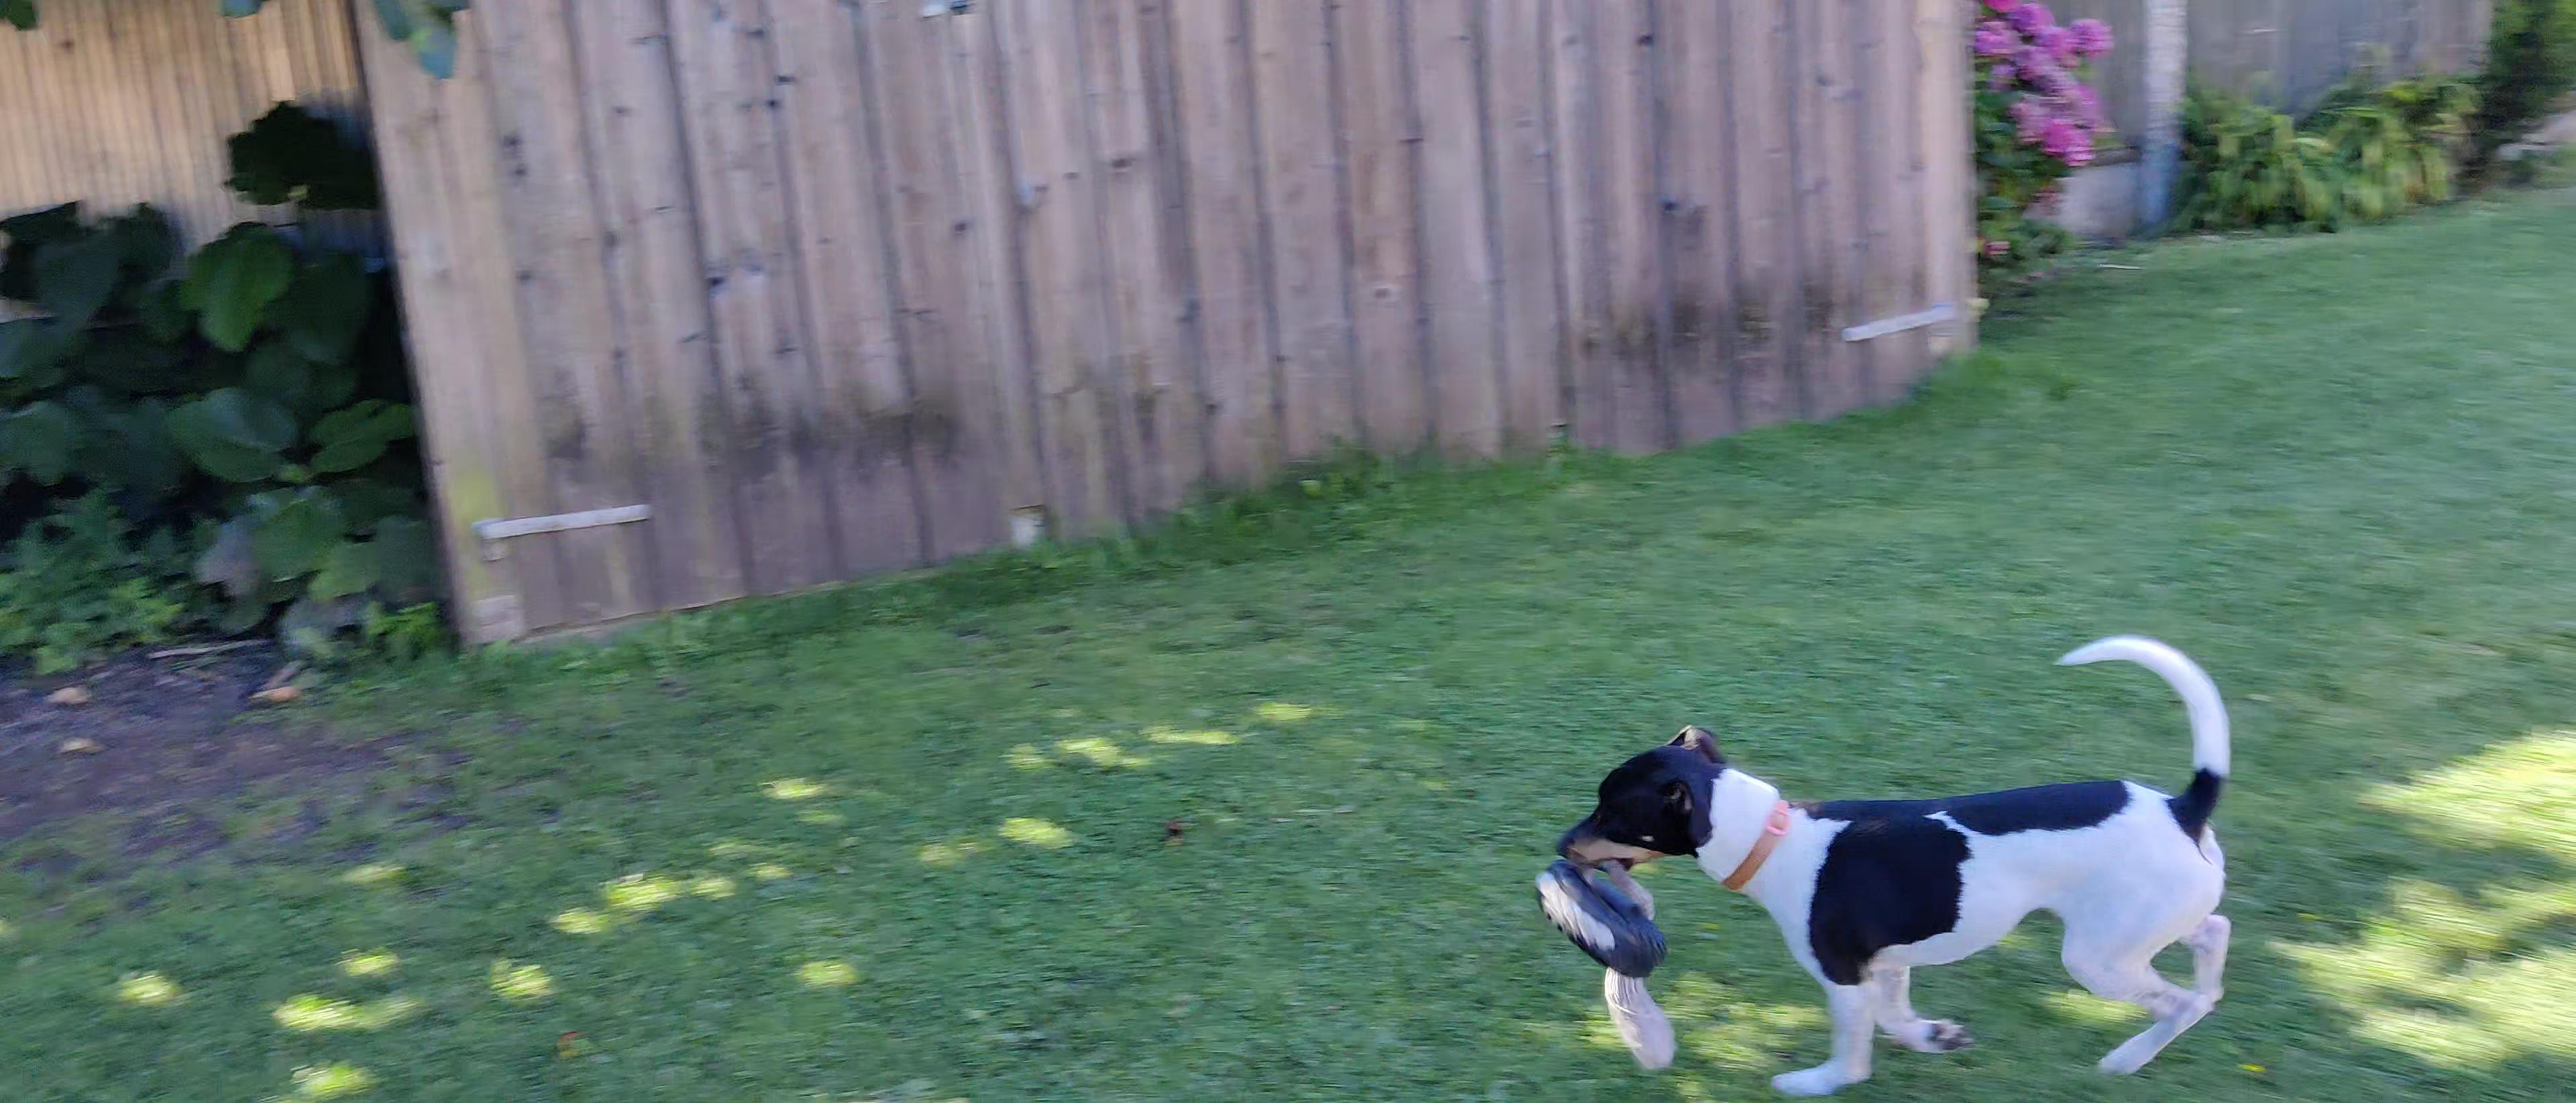Dog: (1533, 608, 2244, 1103)
